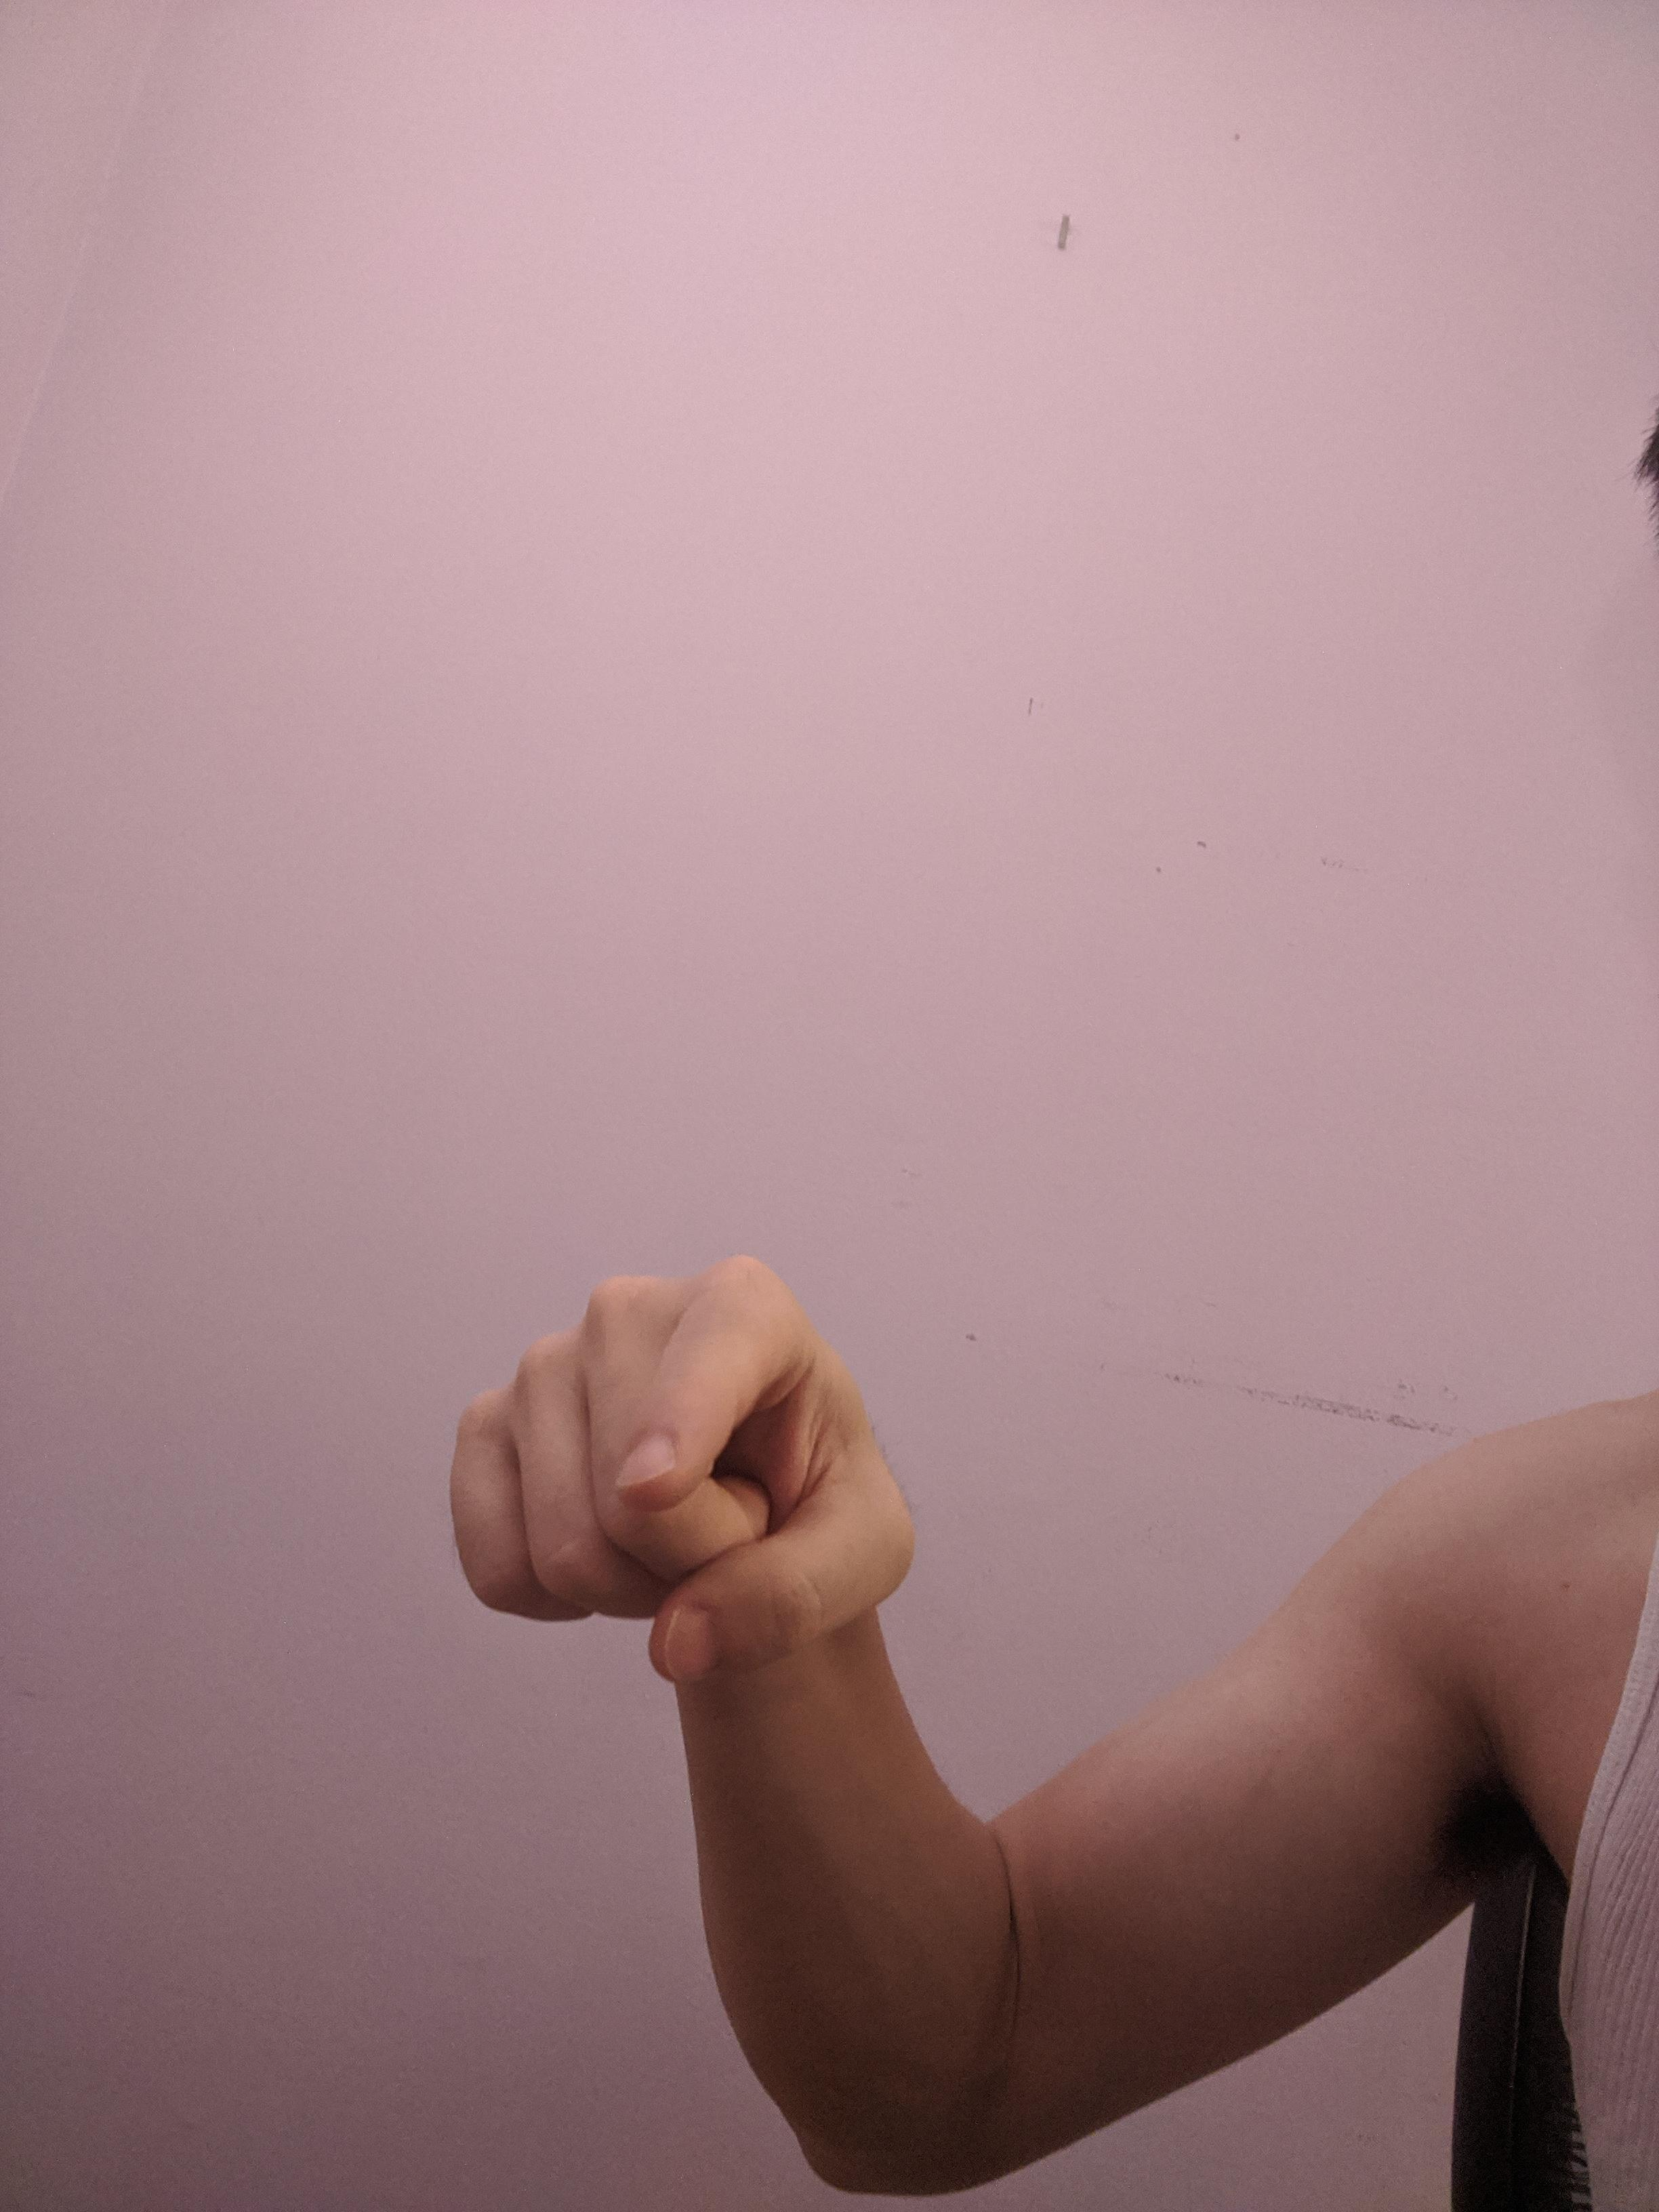Z: (436, 1244, 927, 1702)
